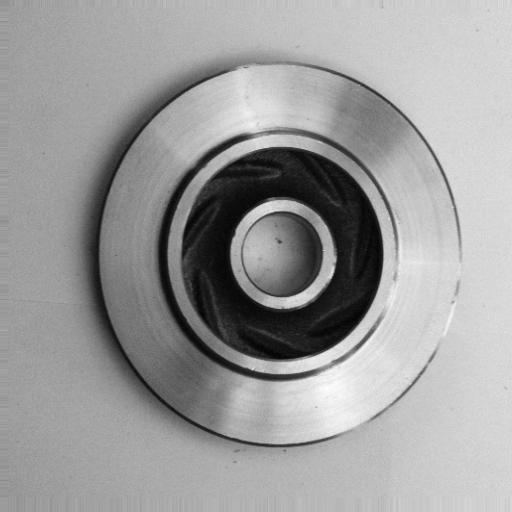scratch: (432, 256, 473, 353), (380, 245, 417, 327)
unpolished_casting: (95, 58, 470, 450)
